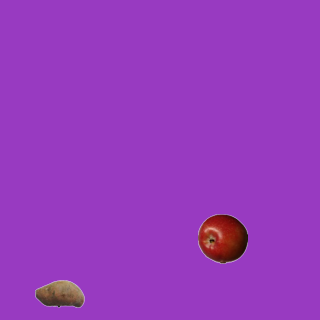Apple Braeburn: (197, 213, 247, 263)
Potato Sweet: (34, 268, 84, 318)
